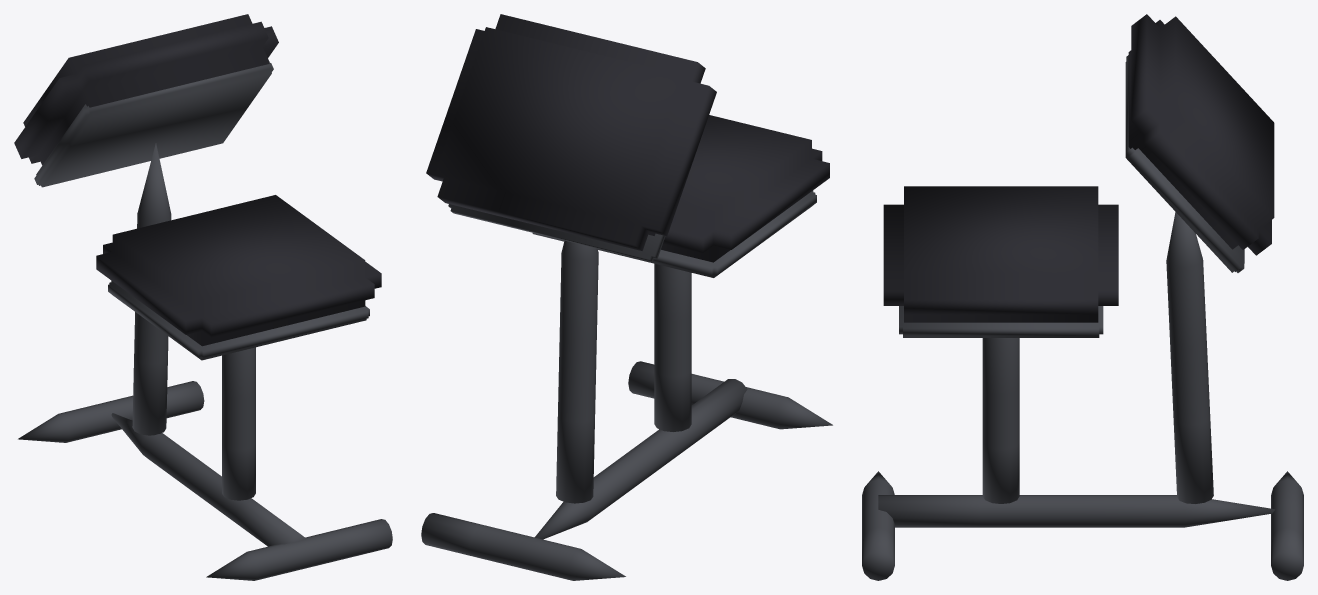
Rendered from RubberBench.glb.
The picture shows the model from 3 angles, left to right: view 1: azimuth 30°, elevation 25°; view 2: azimuth 150°, elevation 25°; view 3: azimuth 270°, elevation 25°; orthographic projection. The views are drawn at different scales.
Parts seen in each view (by area): view 1: RubberBench; view 2: RubberBench; view 3: RubberBench.
Part boxes in pixels (left/top/right/bottom): RubberBench: left=14, top=14, right=392, bottom=580; RubberBench: left=421, top=14, right=832, bottom=580; RubberBench: left=862, top=14, right=1303, bottom=580.
Size of the model in its own units: 1.3 by 2.55 by 2.16.
1 material, 1 textured.
